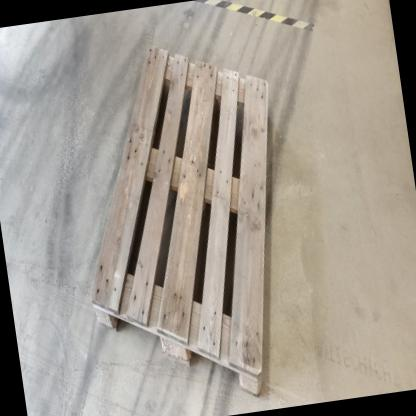BoxFace: (84, 38, 272, 401)
